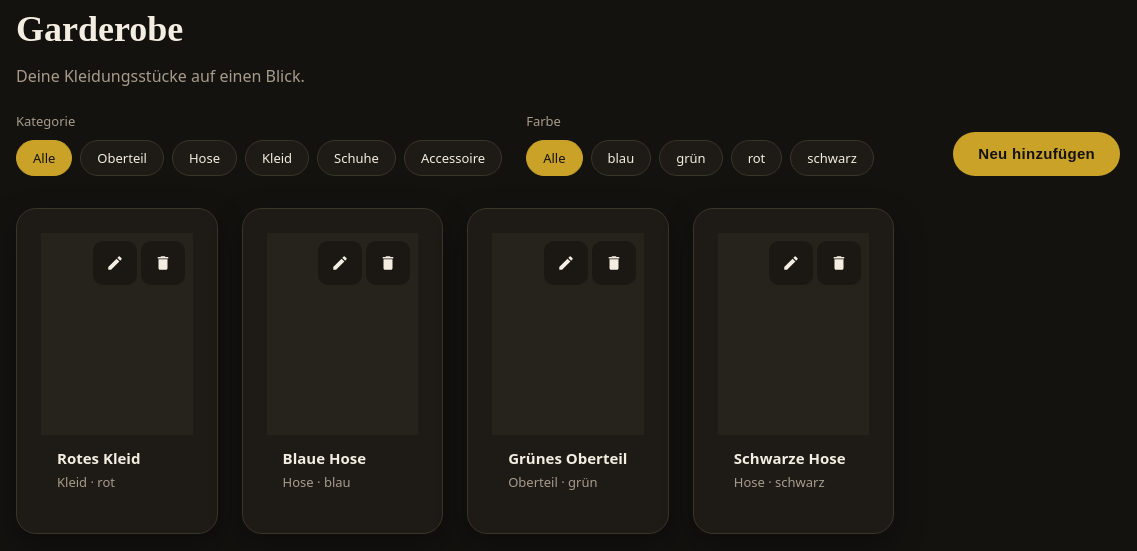
Wardrobe – Filter › filters by color
Expected: the heading "Rotes Kleid" is shown, [57,448,140,468]
Click the button "rot". click: {"x": 756, "y": 158}
box: [731,140,782,176]
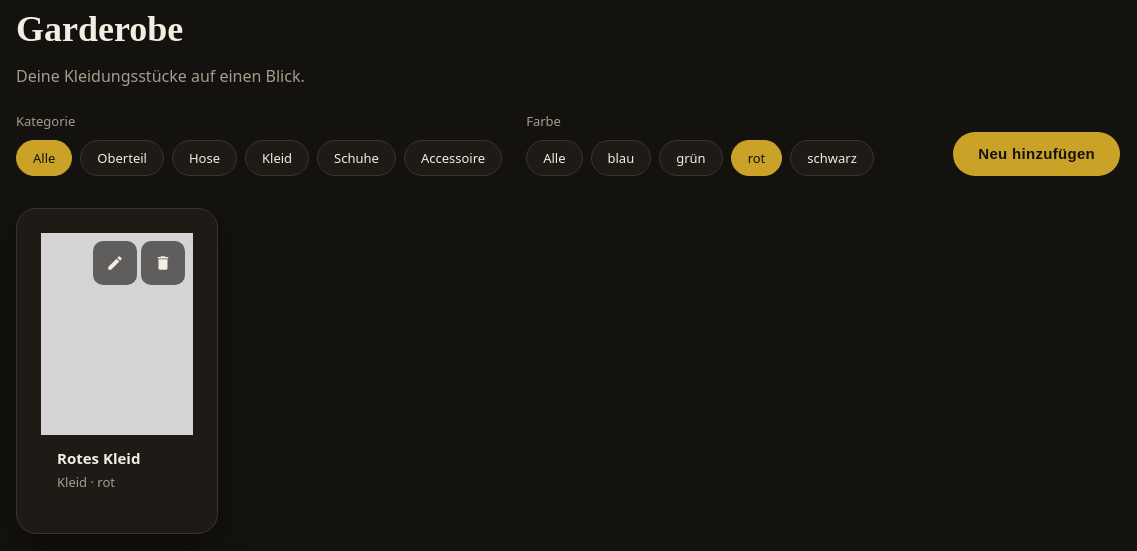
Expected: the heading "Rotes Kleid" is shown, [57,448,140,468]
Result: the heading "Blaue Hose" is gone
